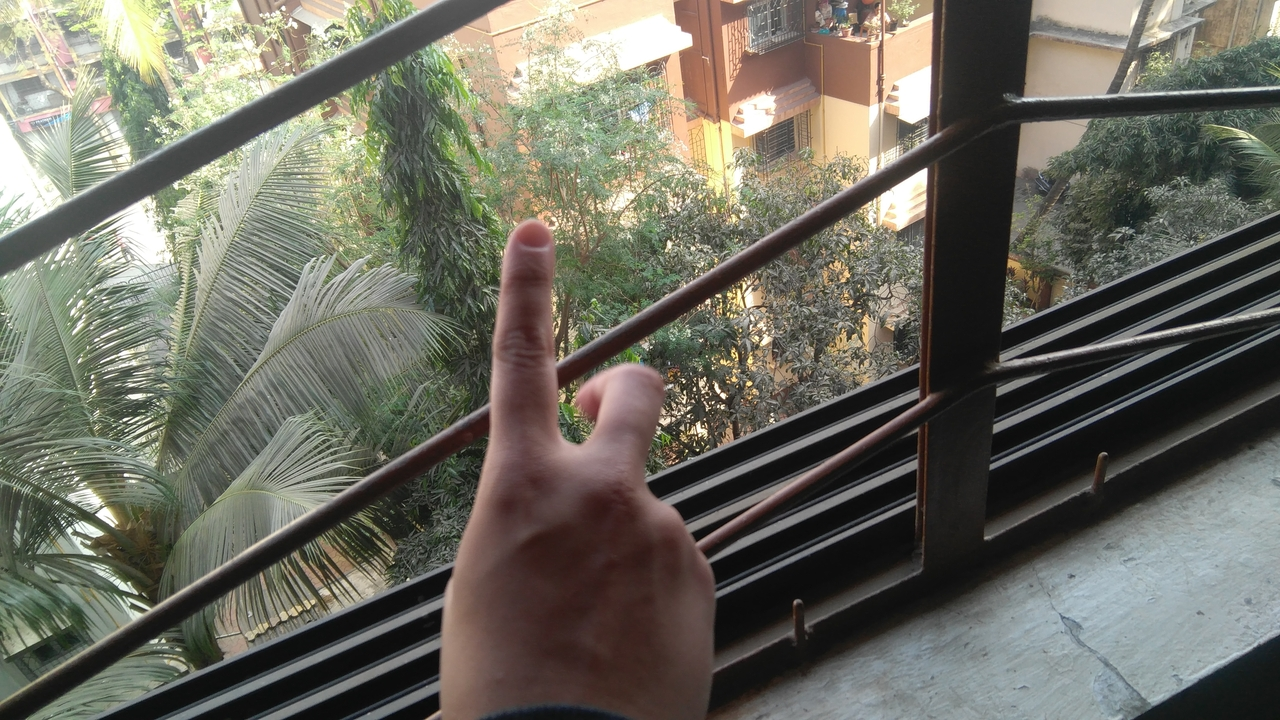fingertip: (498, 212, 558, 272)
